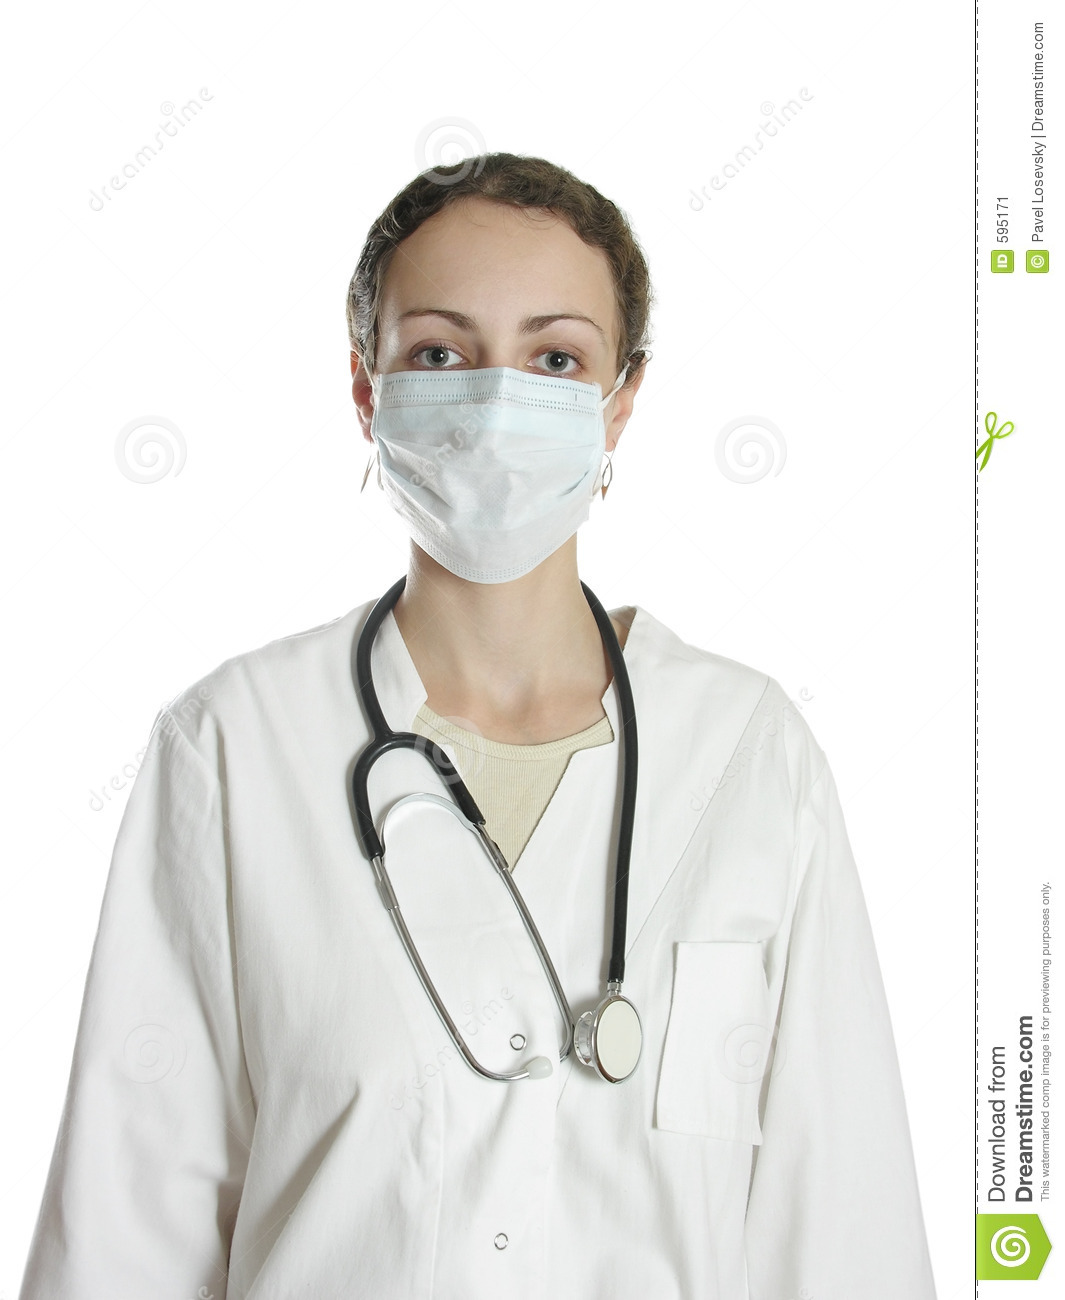mask: (373, 365, 614, 584)
